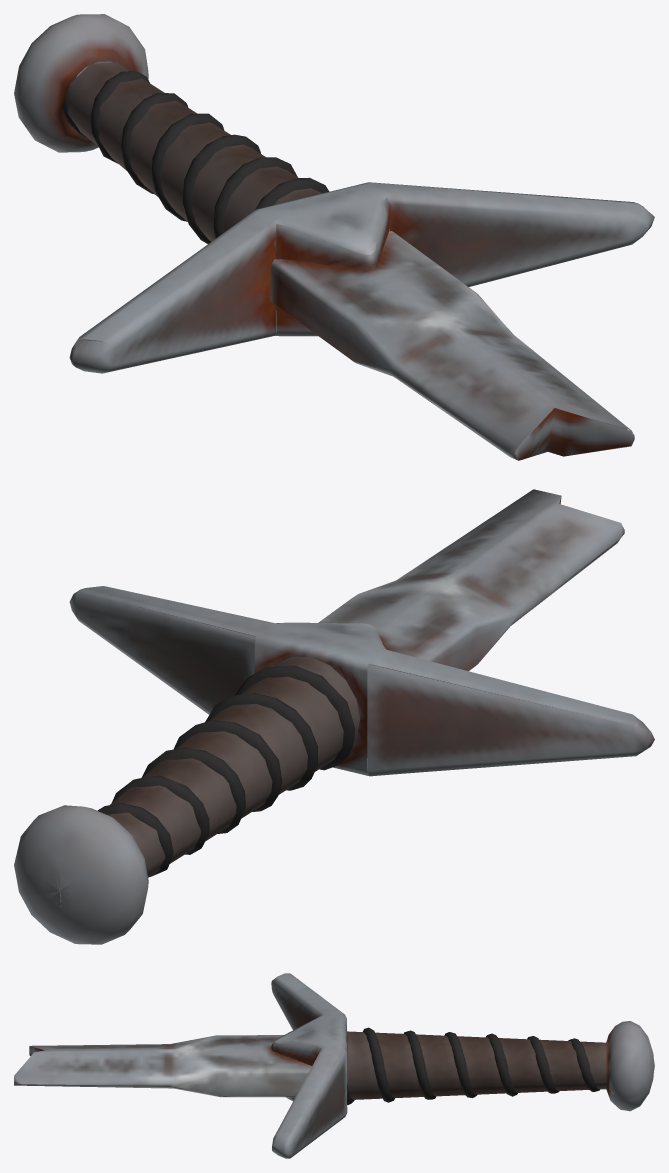
Rendered from broken_sword.glb.
The picture shows the model from 3 angles, top to bottom: view 1: azimuth 30°, elevation 25°; view 2: azimuth 150°, elevation 25°; view 3: azimuth 270°, elevation 25°; orthographic projection. The views are drawn at different scales.
Parts seen in each view (by area): view 1: SM_Misc01_Broken_Sword2_156_M_Misc01_0; view 2: SM_Misc01_Broken_Sword2_156_M_Misc01_0; view 3: SM_Misc01_Broken_Sword2_156_M_Misc01_0.
Boxes of the visible parts, x1,y1,x2,y2 form: SM_Misc01_Broken_Sword2_156_M_Misc01_0: [14, 14, 654, 460]; SM_Misc01_Broken_Sword2_156_M_Misc01_0: [14, 489, 654, 944]; SM_Misc01_Broken_Sword2_156_M_Misc01_0: [14, 973, 654, 1158].
Bounding box in the file's own units: 22.75 × 5.01 × 35.38.
1 material, 1 textured.
